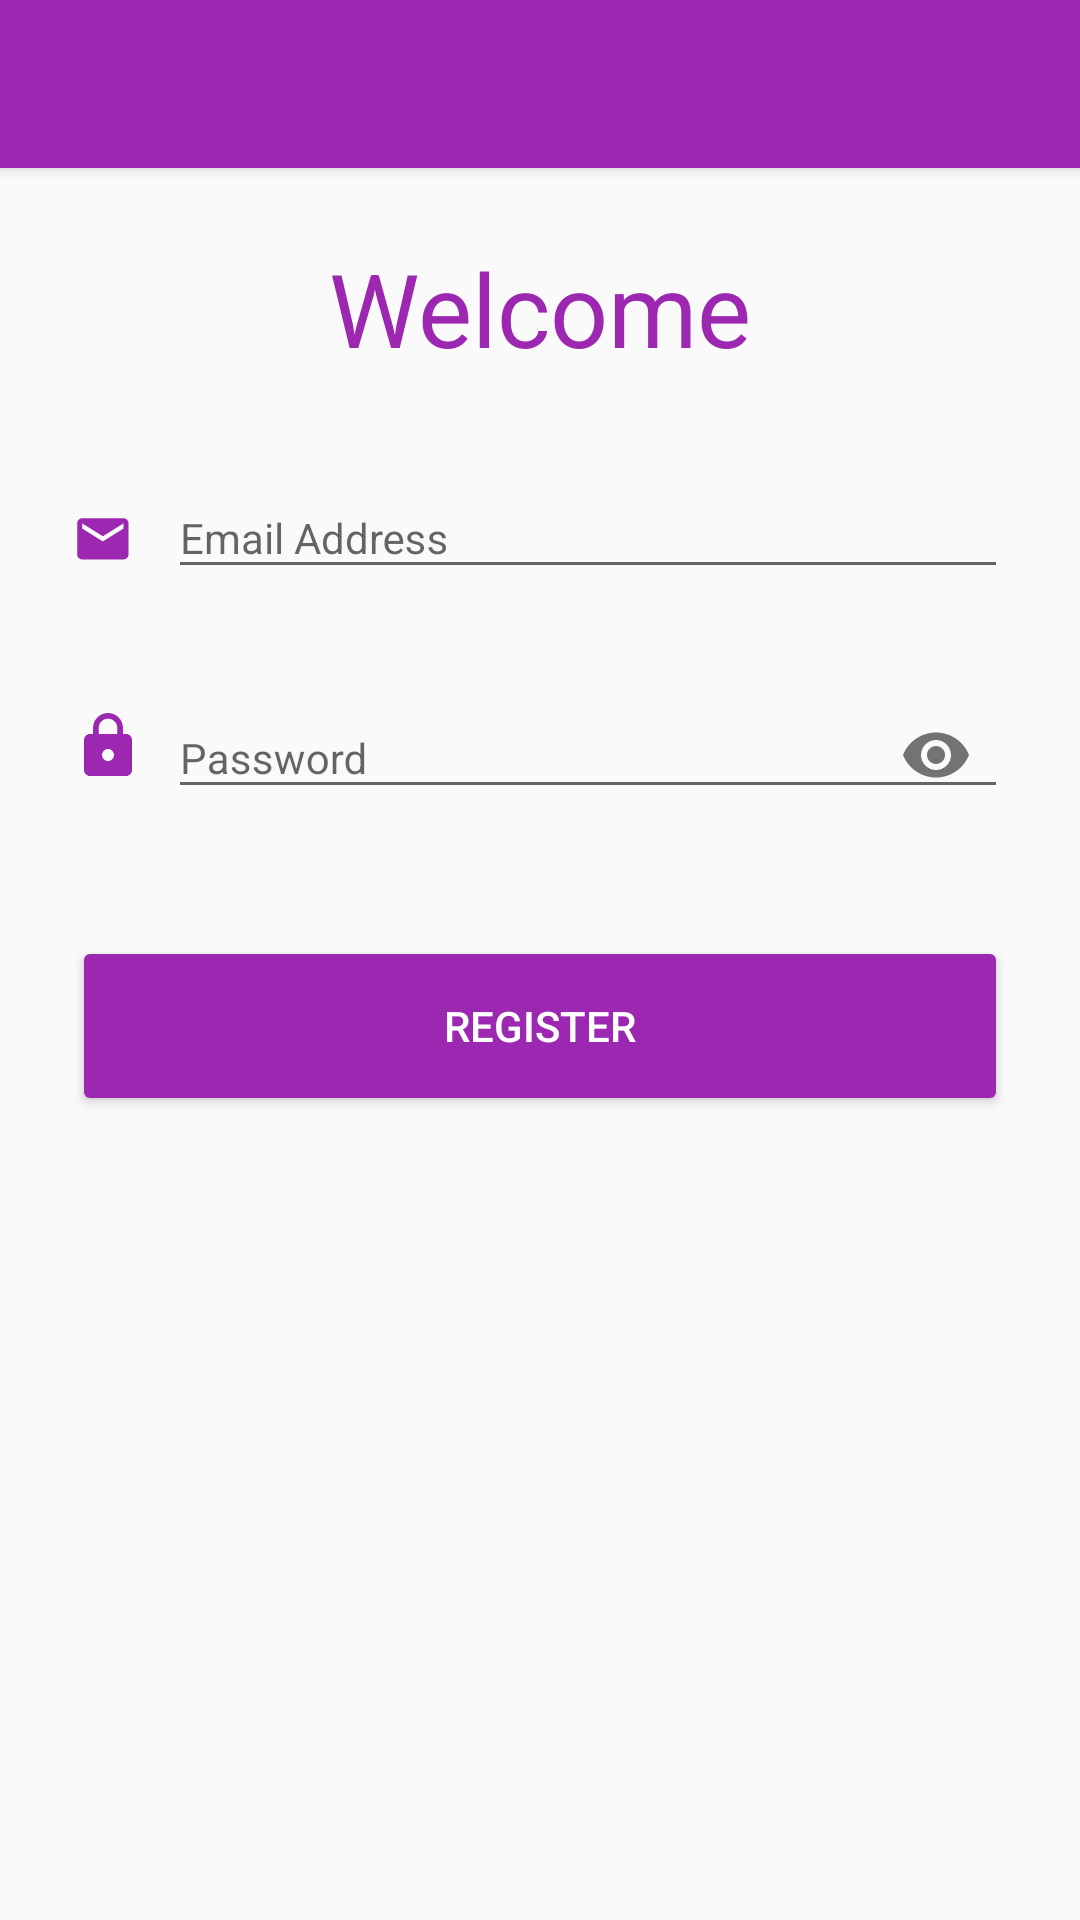

Icon bounding boxes for this 1080px x 1920px phone screenshot, format bbox=[x1, y1, x2, y2]:
all email: bbox=[77, 518, 129, 560]
all lock: bbox=[84, 713, 132, 776]
